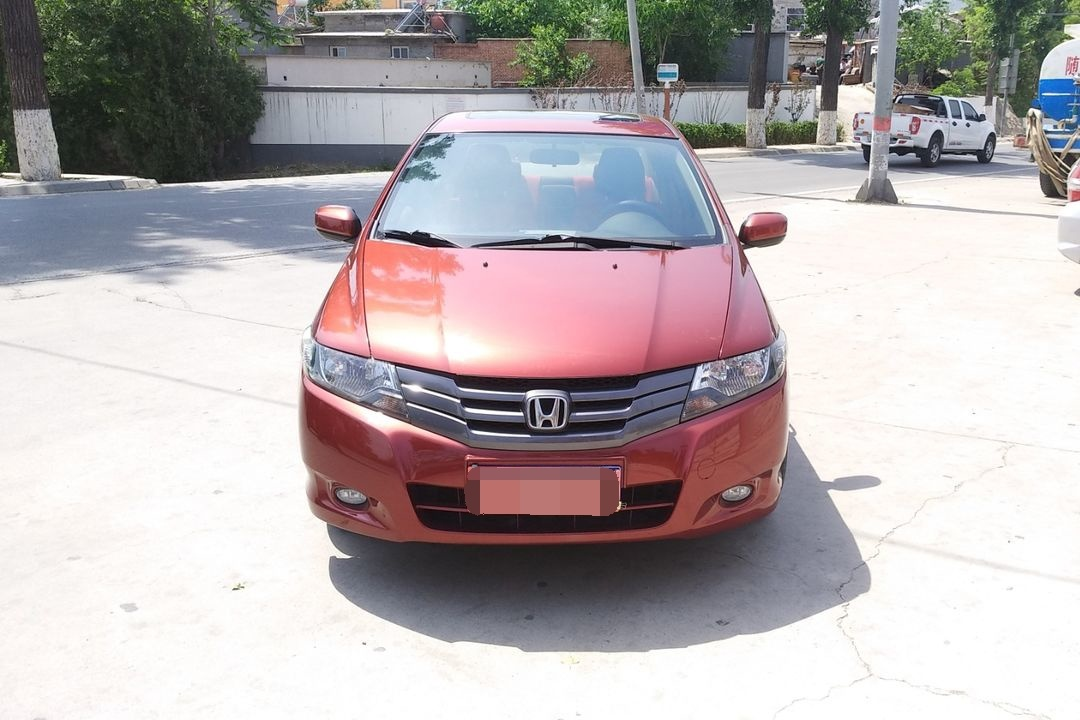family sedan: (312, 119, 811, 559)
